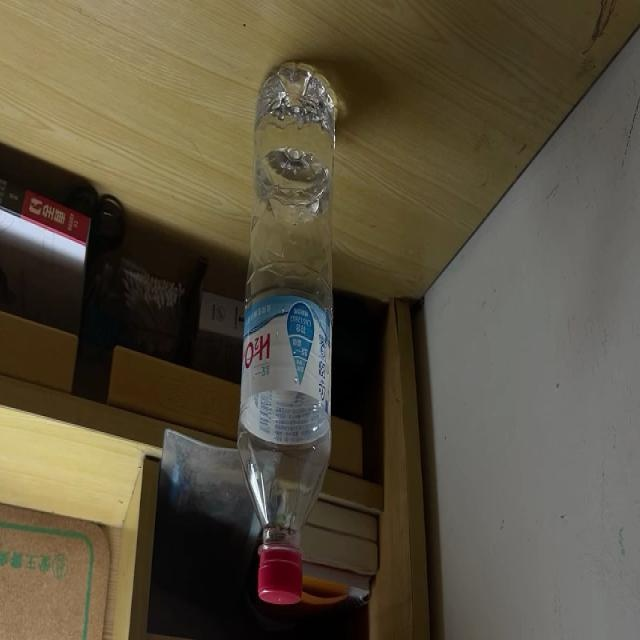Water: (236, 62, 336, 604)
